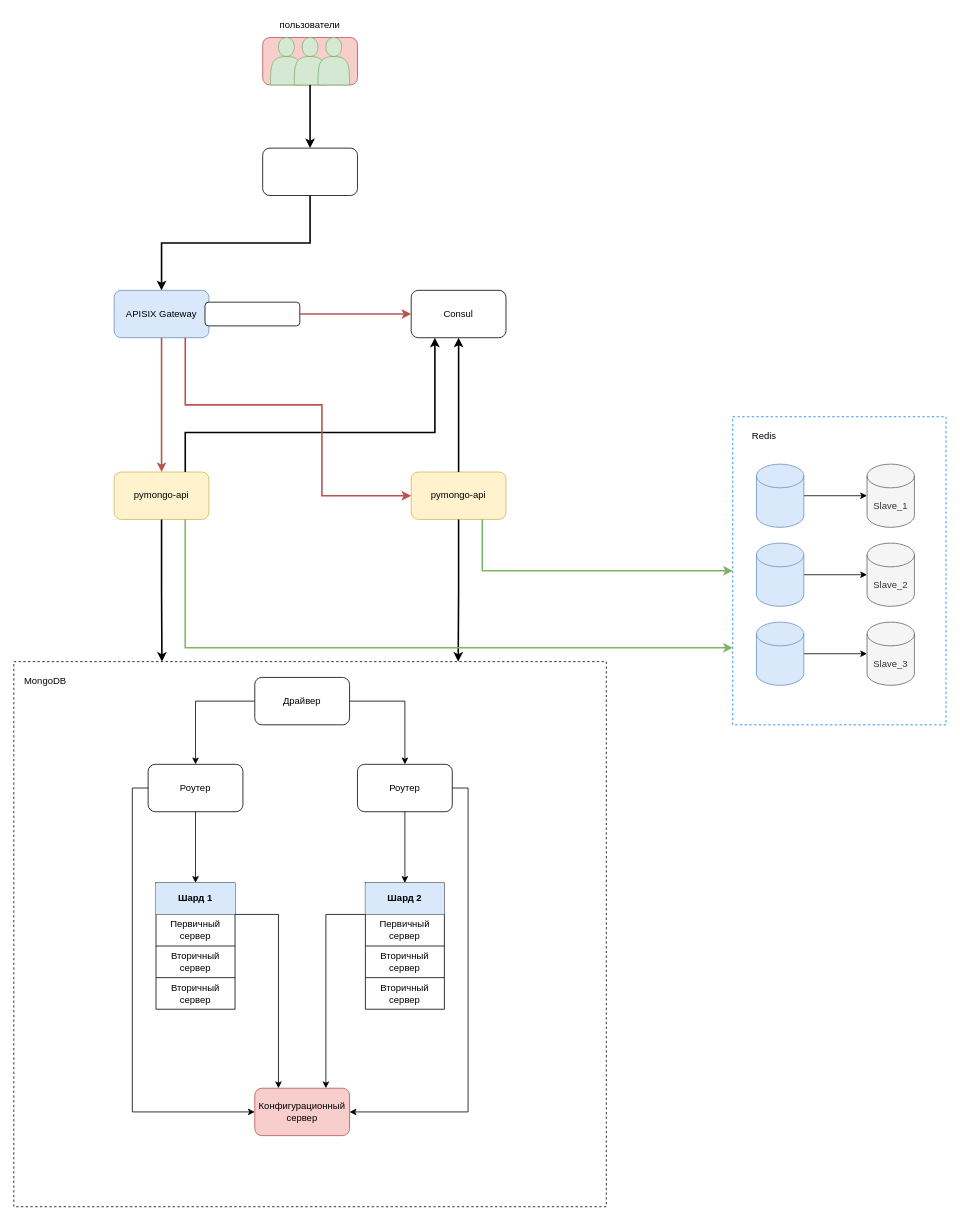
Image size: 960x1221. Some labels were removed from this diagram. The shapes that lost their labels are listed below. From the top down, each one's box as (x1, y1, x2, y2) in pixels, then its label:
(262, 147, 357, 196): Nginx
(204, 301, 300, 326): consul_kv
(756, 463, 804, 527): Master_1
(756, 542, 804, 606): Master_2
(756, 621, 804, 685): Master_3
